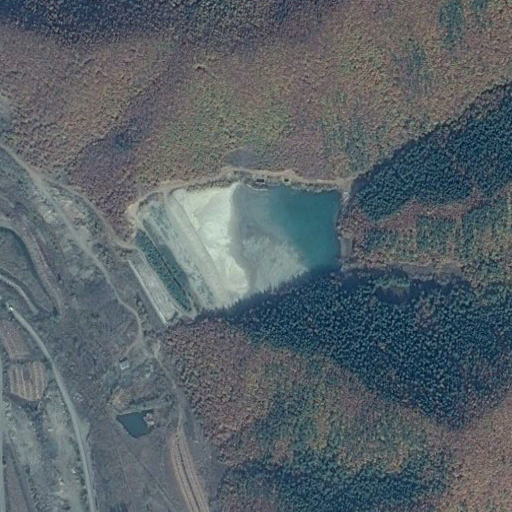tp: (138, 171, 345, 322)
